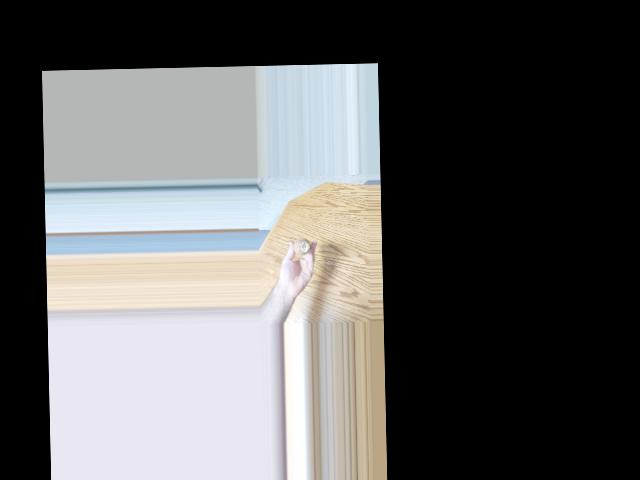sweet_potato: (291, 237, 309, 253)
